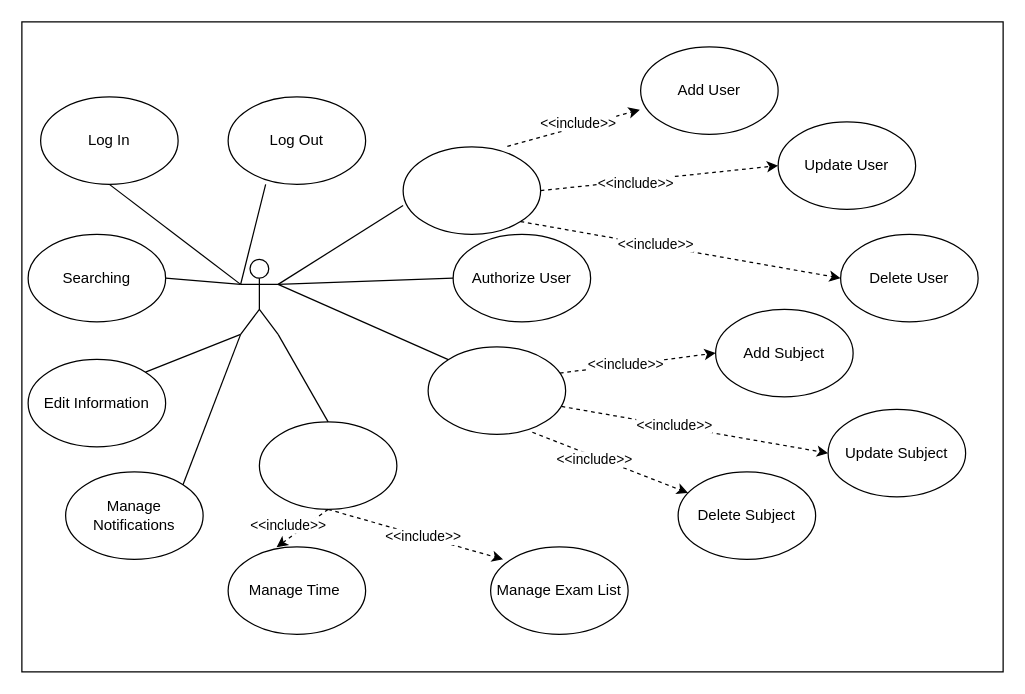
The diagram is 1025 pixels wide and 694 high, and some of its shapes have lost their labels. Each missing label, with the box of its shape:
Admin: (239, 258, 278, 334)
Manage Exam: (258, 421, 397, 509)
Manage Subject: (427, 346, 566, 434)
Manage User: (402, 146, 541, 234)
